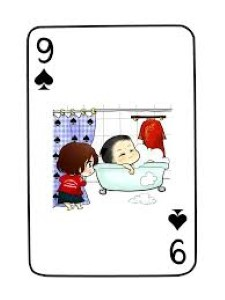NineOfSpades: (24, 21, 201, 278)
